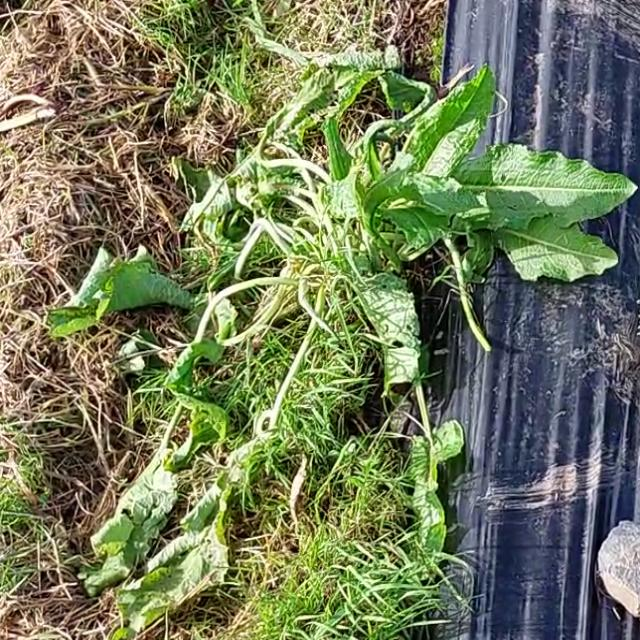organic waste: (75, 40, 599, 637)
